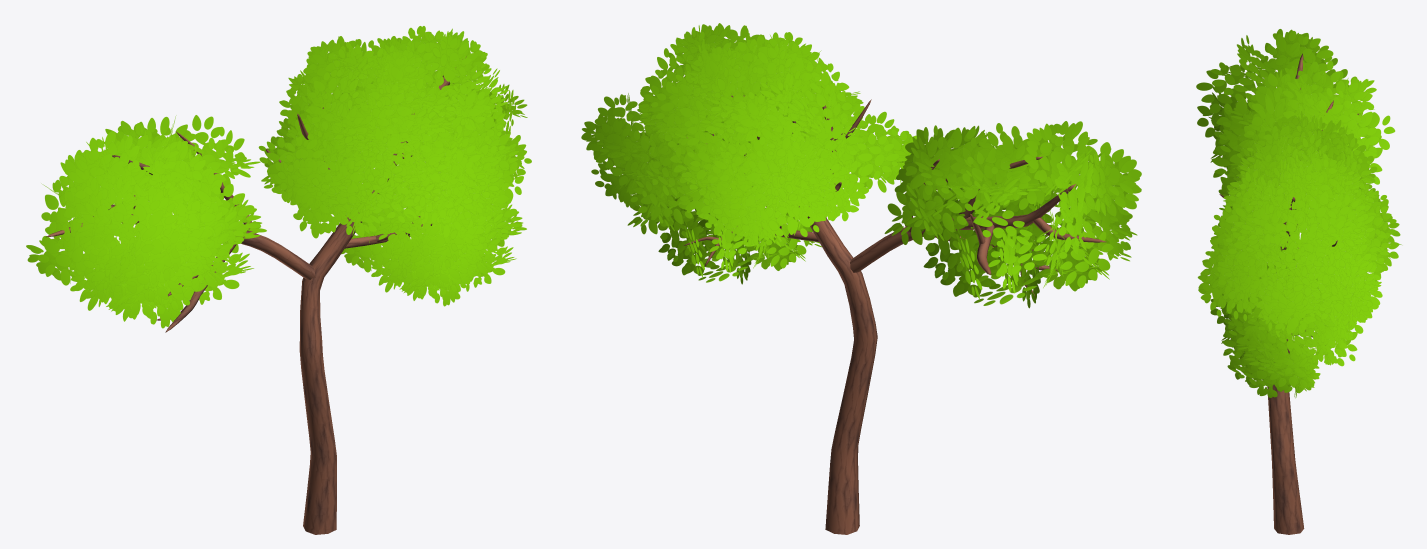
File: TreeMain2.glb
3 renders of one model, left to right at view 1: azimuth 30°, elevation 25°; view 2: azimuth 150°, elevation 25°; view 3: azimuth 270°, elevation 25°, orthographic. The views are drawn at different scales.
Visible parts, largest first — view 1: NormalTree_4; view 2: NormalTree_4; view 3: NormalTree_4.
Part boxes in pixels (bbox=[...]): NormalTree_4: bbox=[26, 26, 531, 534]; NormalTree_4: bbox=[581, 23, 1141, 534]; NormalTree_4: bbox=[1196, 29, 1401, 534].
Bounding box in the file's own units: 5.67 × 5.1 × 2.4.
Materials: 2 (2 with a texture image).
